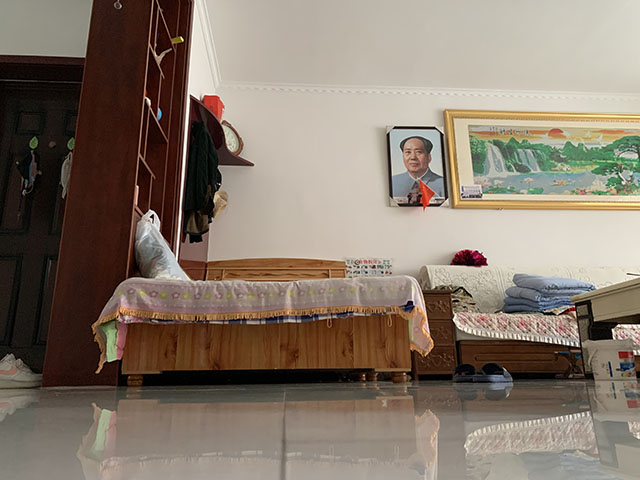bed: (90, 258, 435, 383)
slippers: (453, 361, 514, 385)
sofa: (412, 263, 640, 381)
stool: (554, 349, 585, 379)
table: (569, 276, 640, 381)
